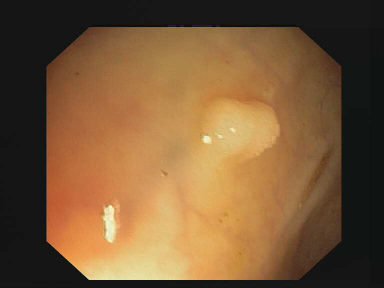polyp: (200, 96, 280, 161)
